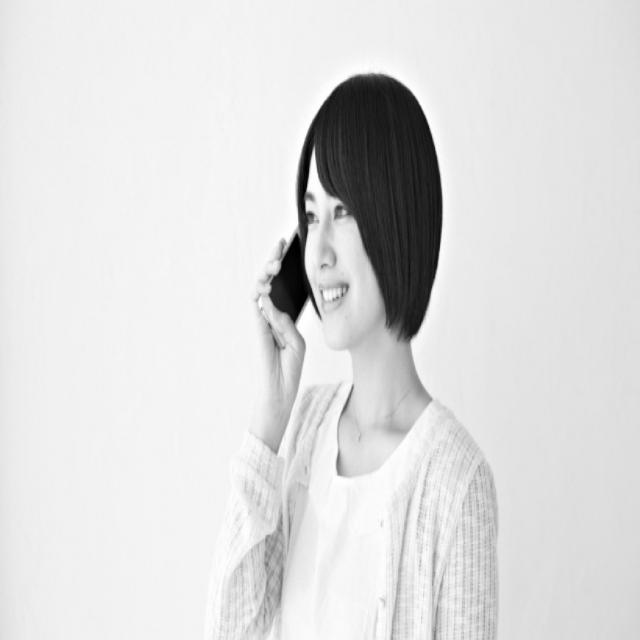phone: (243, 160, 332, 408)
